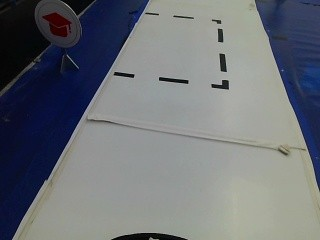school: (30, 0, 83, 48)
